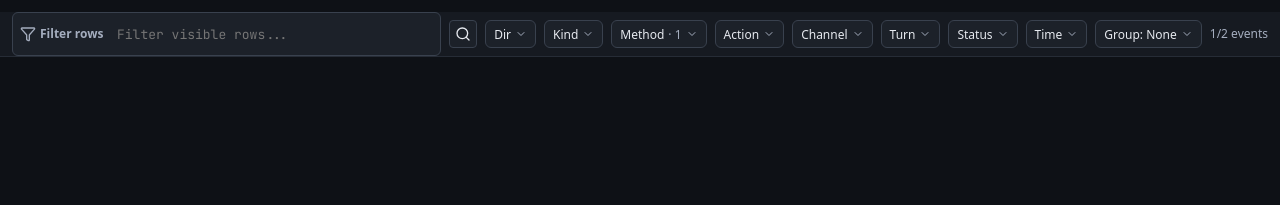
FilterBar › shows one contextual complete-facet command and no visible Close action
Click the button "Method · 1" at (659, 34), box [611,20,707,48]
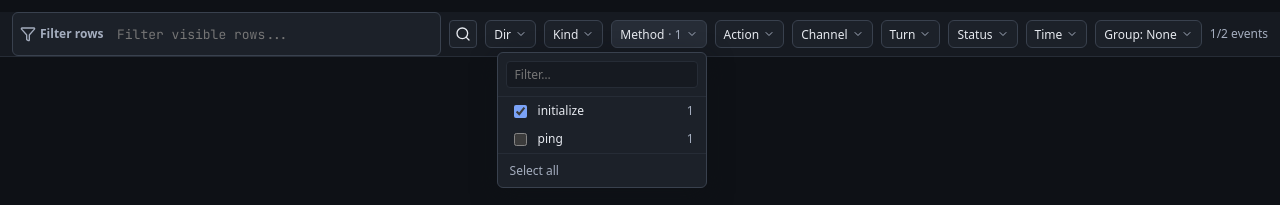
Expected: the button "Uncheck all" is not shown
Expected: the button "Select all" is shown
Click the button "Select all" at (534, 170), box [506,158,563,183]
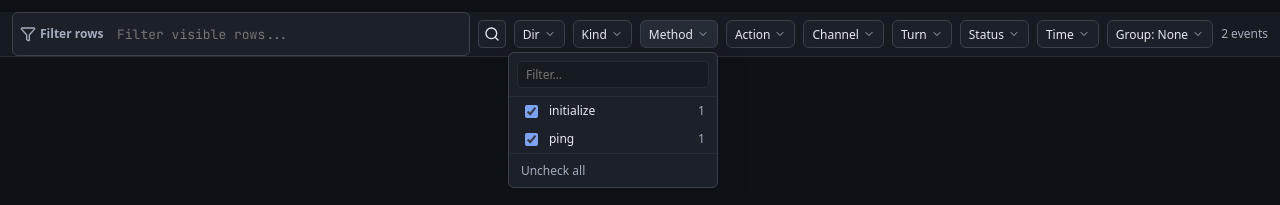
Expected: the list is shown, [508,52,718,188]
Expected: the button "Uncheck all" is shown
Expected: the button "Select all" is gone
Click the button "Uncheck all" at (553, 170), box [517,158,589,183]
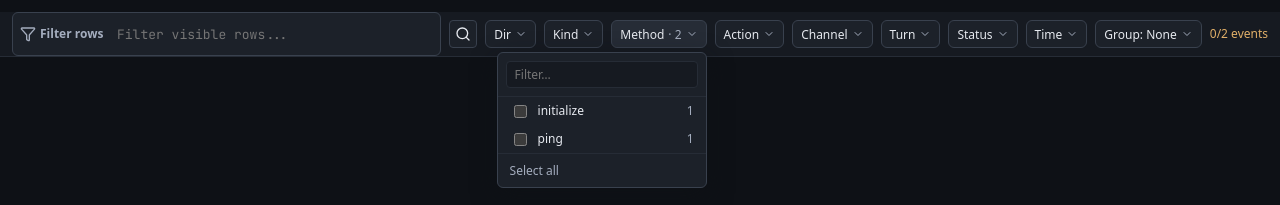
Expected: the button "Select all" is shown, [506,158,563,183]
